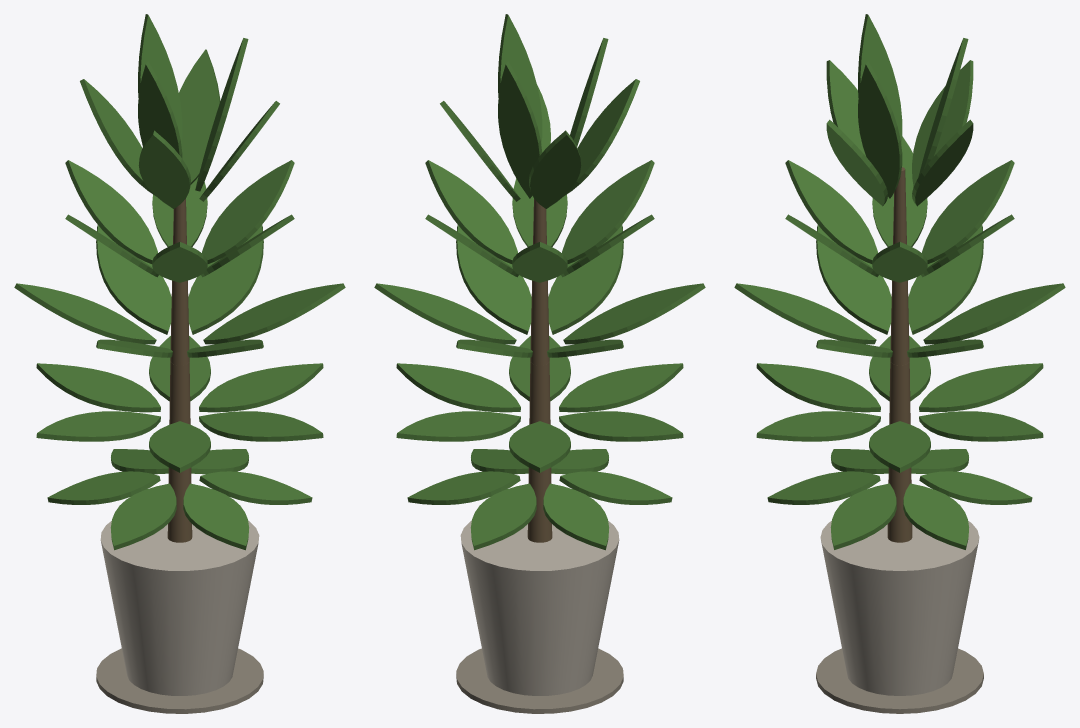
Rendered from plant.glb.
3 renders of one model, left to right at view 1: azimuth 30°, elevation 25°; view 2: azimuth 150°, elevation 25°; view 3: azimuth 270°, elevation 25°, orthographic.
Parts seen in each view (by area): view 1: material-3-foliage, material-0-pot, material-1-base, material-2-frame; view 2: material-3-foliage, material-0-pot, material-1-base, material-2-frame; view 3: material-3-foliage, material-0-pot, material-2-frame, material-1-base.
Part boxes in pixels (<box>): material-3-foliage: <box>14,14,345,550</box>; material-0-pot: <box>100,520,259,695</box>; material-1-base: <box>96,648,263,713</box>; material-2-frame: <box>167,199,192,542</box>; material-3-foliage: <box>374,14,705,550</box>; material-0-pot: <box>460,520,619,695</box>; material-1-base: <box>456,648,623,713</box>; material-2-frame: <box>527,199,552,542</box>; material-3-foliage: <box>734,14,1065,549</box>; material-0-pot: <box>820,521,979,695</box>; material-2-frame: <box>887,167,912,542</box>; material-1-base: <box>816,648,983,713</box>.
Bounding box in the file's own units: 0.75 × 1.6 × 0.75.
